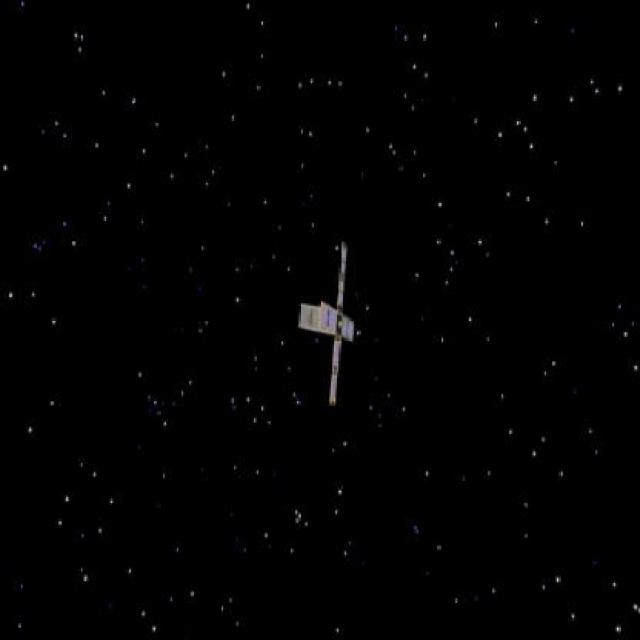medium_debris: (292, 232, 373, 410)
